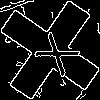X: (25, 25, 81, 79)
